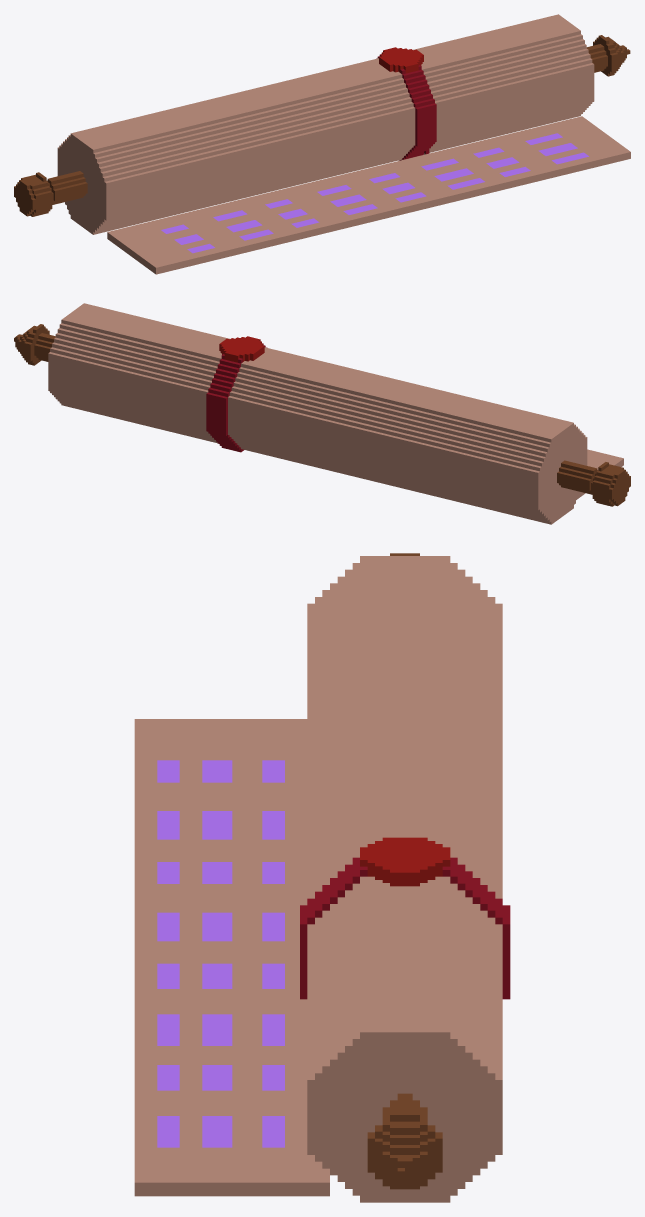
The model's file is forge_warp_scroll.glb.
3 renders of one model, top to bottom at view 1: azimuth 30°, elevation 25°; view 2: azimuth 150°, elevation 25°; view 3: azimuth 270°, elevation 25°, orthographic. The views are drawn at different scales.
Visible parts, largest first — view 1: forge_warp_scroll:compound; view 2: forge_warp_scroll:compound; view 3: forge_warp_scroll:compound.
Boxes of the visible parts, bbox=[...] form: forge_warp_scroll:compound: bbox=[14, 14, 630, 274]; forge_warp_scroll:compound: bbox=[14, 303, 630, 524]; forge_warp_scroll:compound: bbox=[134, 553, 510, 1202].
Size of the model in its own units: 0.372 by 0.056 by 0.1.
